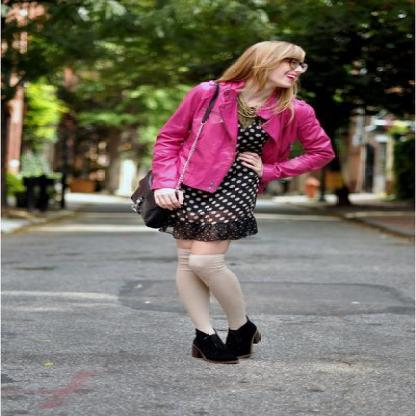bag: (131, 174, 172, 232)
dress: (153, 103, 275, 241)
jacket: (149, 75, 334, 191)
shoe: (192, 324, 255, 364)
sunglass: (277, 56, 306, 74)
